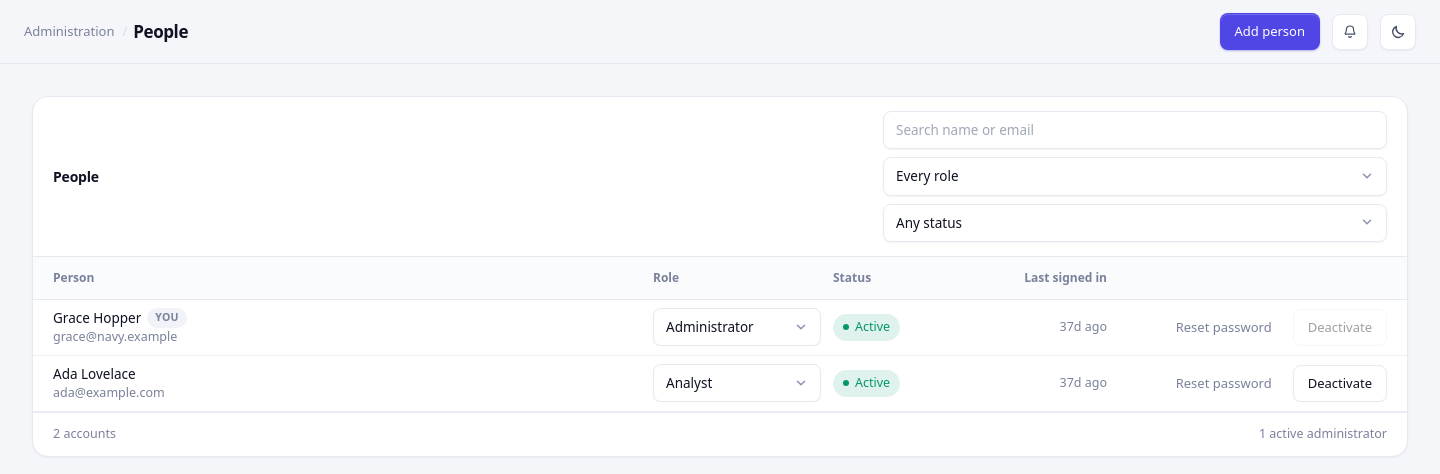
the account list › narrows to a search and says what it hid
Expected: the text "Ada Lovelace" is shown, [53,364,136,384]
Type "grace" into the search field named "Search people" at (1135,130), box [883,111,1387,149]
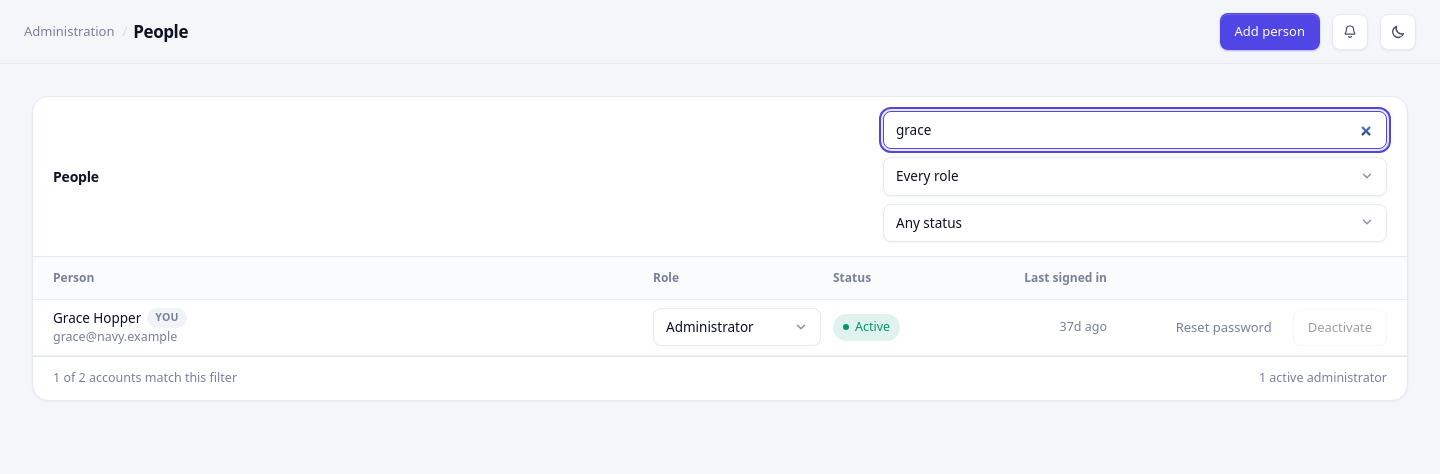
Expected: the text "Ada Lovelace" is gone
Expected: the text "1 of 2 accounts match this filter" is shown, [53,369,237,388]
